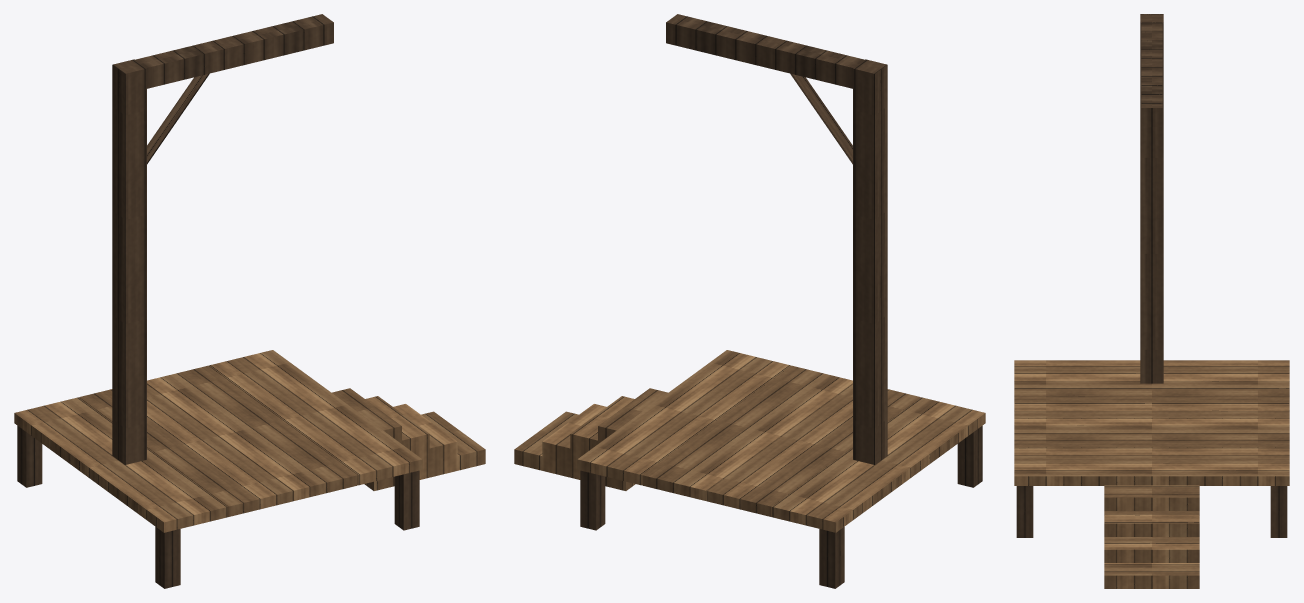
File: Gallows_1_LOD1.gltf
The picture shows the model from 3 angles, left to right: view 1: azimuth 30°, elevation 25°; view 2: azimuth 150°, elevation 25°; view 3: azimuth 270°, elevation 25°; orthographic projection. The views are drawn at different scales.
Visible parts, largest first — view 1: Gallows_1_LOD1; view 2: Gallows_1_LOD1; view 3: Gallows_1_LOD1.
Part boxes in pixels (x1,y1,x2,y2): Gallows_1_LOD1: (14, 14, 485, 588); Gallows_1_LOD1: (514, 14, 985, 588); Gallows_1_LOD1: (1014, 14, 1289, 588).
Size of the model in its own units: 3.72 by 4.4 by 2.6.
Materials: 2 (2 with a texture image).
